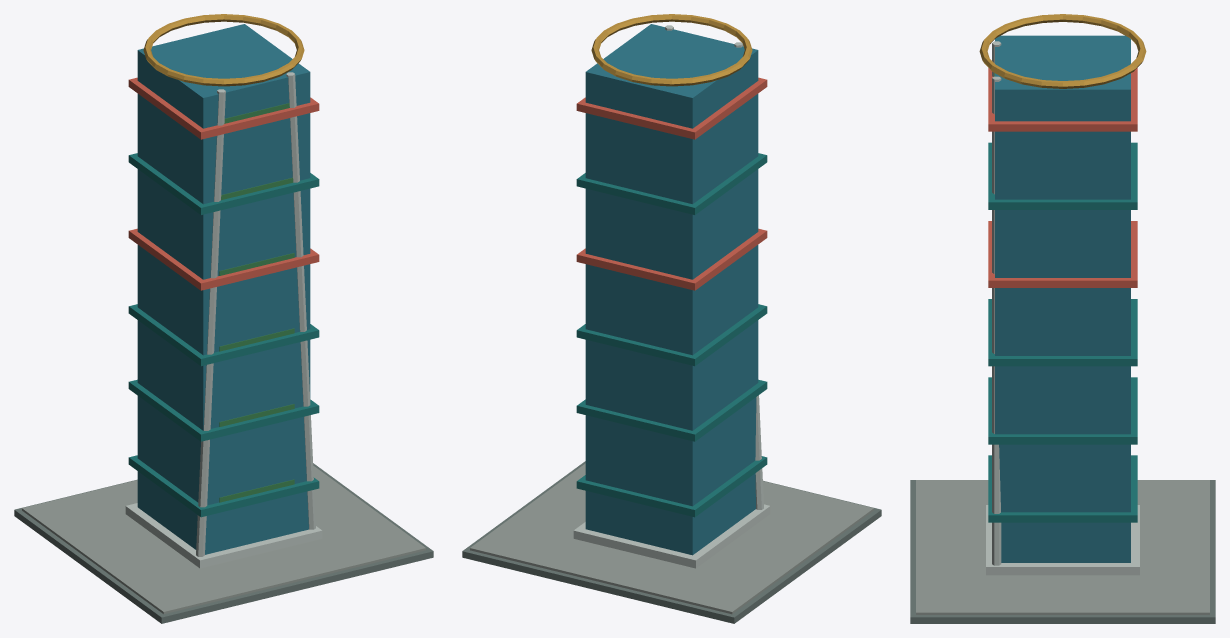
File: civic_tower_lv3.glb
The picture shows the model from 3 angles, left to right: view 1: azimuth 30°, elevation 25°; view 2: azimuth 150°, elevation 25°; view 3: azimuth 270°, elevation 25°; orthographic projection. The views are drawn at different scales.
Parts seen in each view (by area): view 1: glossy, rough; view 2: glossy, rough; view 3: glossy, rough.
Part boxes in pixels (left/top/right/bottom): glossy: left=137, top=24, right=310, bottom=554; rough: left=14, top=14, right=433, bottom=623; glossy: left=585, top=24, right=758, bottom=555; rough: left=462, top=14, right=881, bottom=623; glossy: left=995, top=35, right=1130, bottom=562; rough: left=910, top=14, right=1215, bottom=623.
Bounding box in the file's own units: 9.8 × 16.85 × 9.2.
